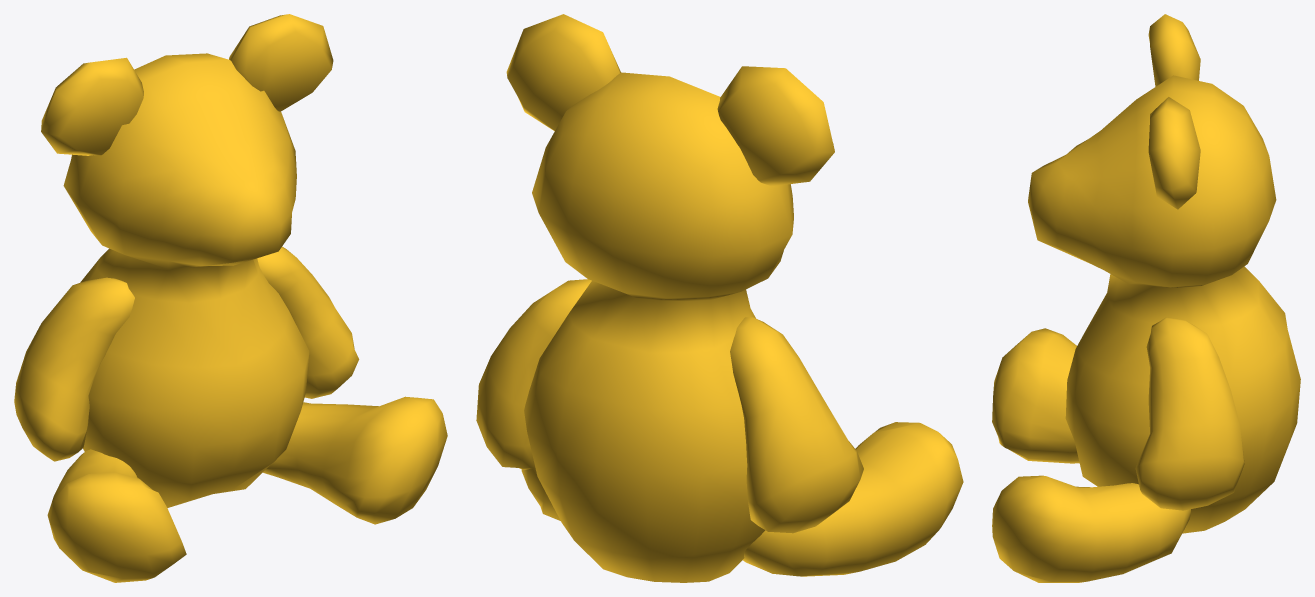
Rendered from Teddy.fbx.
3 views of the same model, side by side, from view 1: azimuth 30°, elevation 25°; view 2: azimuth 150°, elevation 25°; view 3: azimuth 270°, elevation 25° (orthographic). The views are drawn at different scales.
Parts seen in each view (by area): view 1: Teddy; view 2: Teddy; view 3: Teddy.
Part boxes in pixels (box(x1,y1,x2,y2)): Teddy: box(14, 14, 447, 582); Teddy: box(476, 14, 963, 582); Teddy: box(992, 14, 1300, 582).
Size of the model in its own units: 0.3688 by 0.4284 by 0.2624.
